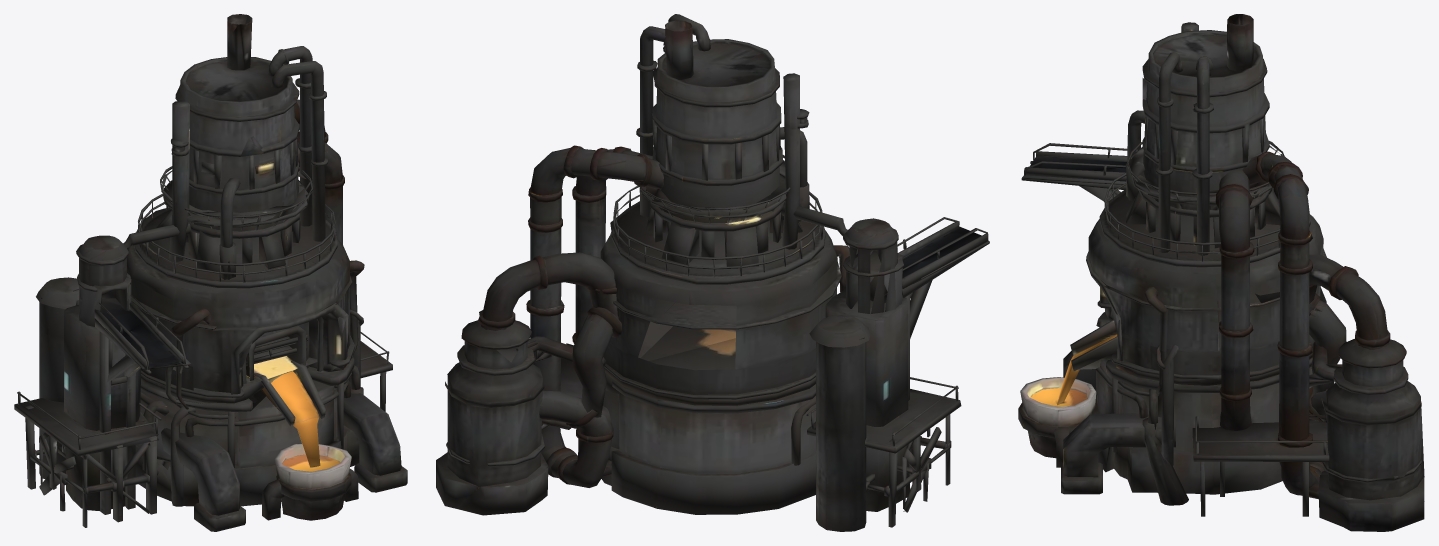
File: foundry.glb
The picture shows the model from 3 angles, left to right: view 1: azimuth 30°, elevation 25°; view 2: azimuth 150°, elevation 25°; view 3: azimuth 270°, elevation 25°; orthographic projection. The views are drawn at different scales.
Parts seen in each view (by area): view 1: Foundry; view 2: Foundry; view 3: Foundry.
Part boxes in pixels (x1=…): Foundry: x1=14, y1=14, x2=407, y2=531; Foundry: x1=436, y1=14, x2=989, y2=531; Foundry: x1=1018, y1=14, x2=1424, y2=531.
Bounding box in the file's own units: 12 × 13 × 11.02.
2 materials, 2 textured.
